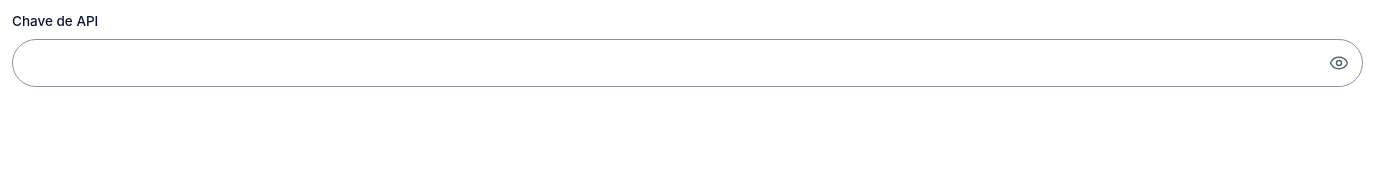
it: componentes Subido › CampoSenha: mostra e esconde o que foi digitado
What coordinates should you click on to do the following:
click the button named "Mostrar chave"
I would click on:
 (1339, 63)
Its box is [1317,41,1361,85].
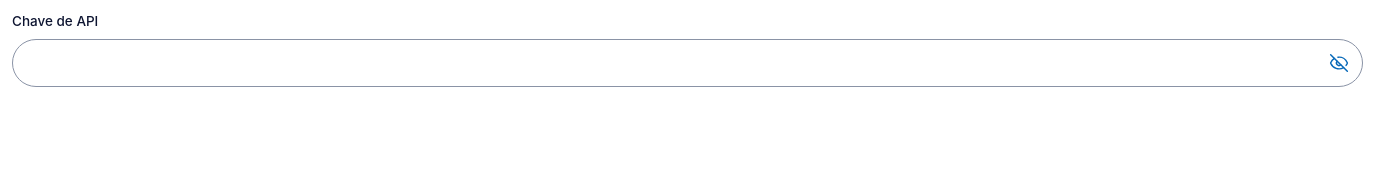
Expected: the button named "Mostrar chave" is pressed, [1317,41,1361,85]
